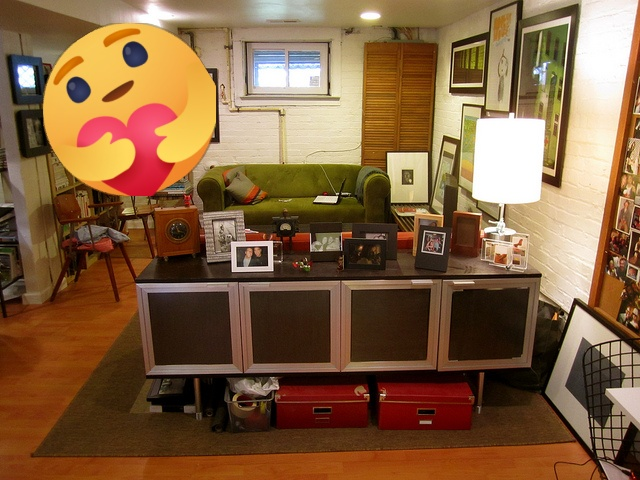care: (43, 23, 216, 196)
